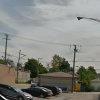Car: (21, 77, 66, 98)
